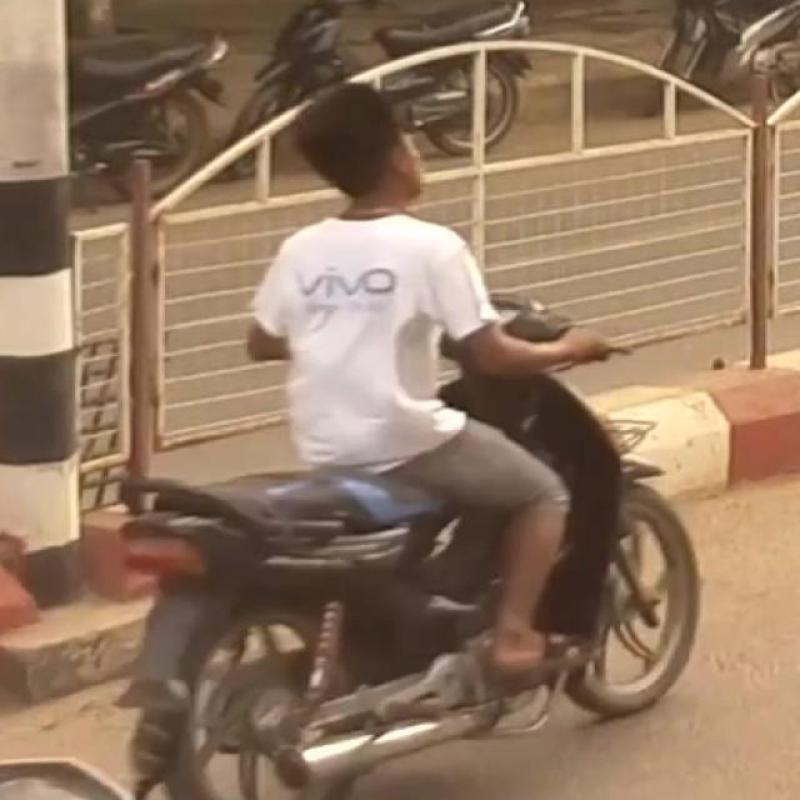nohelmet: (258, 58, 488, 232)
